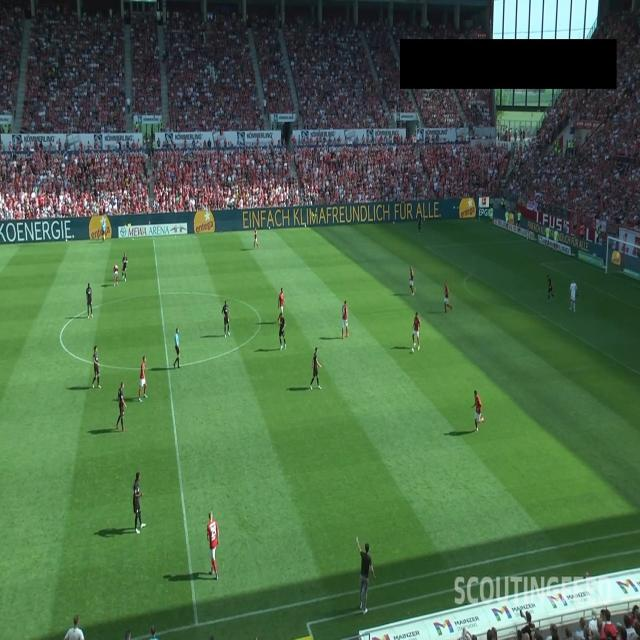ball: (410, 346, 415, 354)
